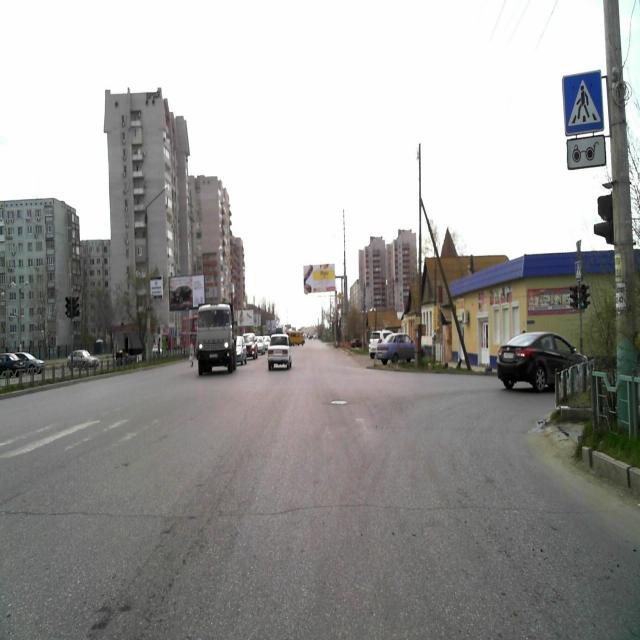road sign: (563, 72, 603, 133), (566, 134, 606, 172)
